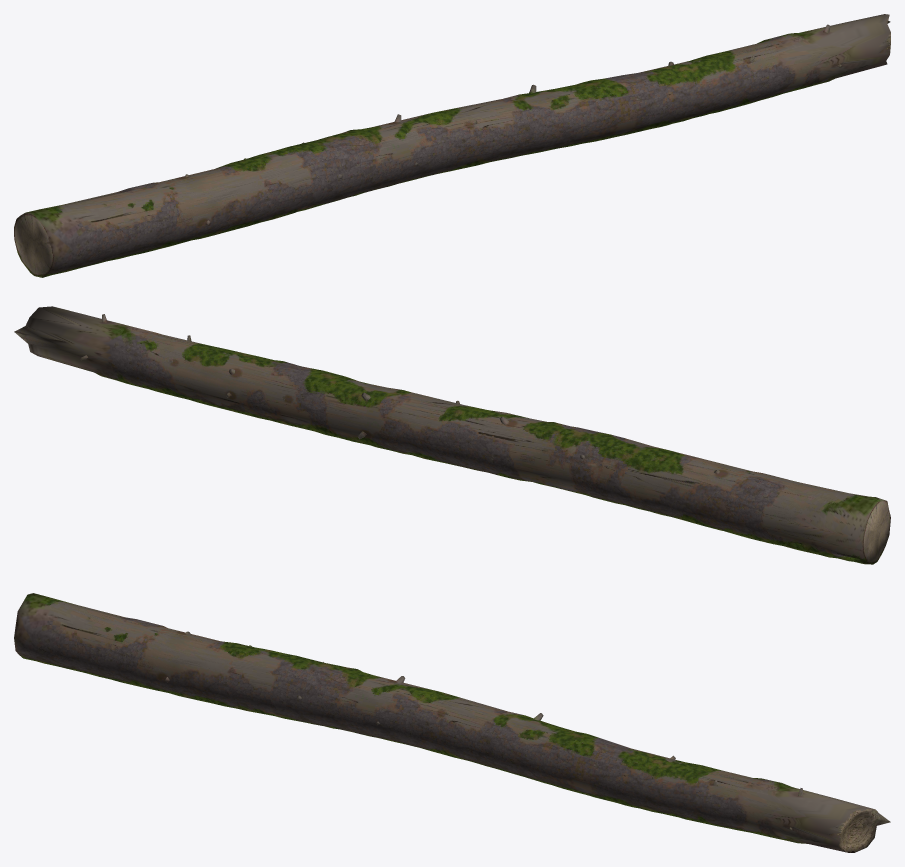
The model's file is FallenLog.glb.
3 renders of one model, top to bottom at view 1: azimuth 30°, elevation 25°; view 2: azimuth 150°, elevation 25°; view 3: azimuth 330°, elevation 25°, orthographic. The views are drawn at different scales.
Parts seen in each view (by area): view 1: fallen-log; view 2: fallen-log; view 3: fallen-log.
Boxes of the visible parts, x1,y1,x2,y2 form: fallen-log: (14, 14, 890, 277); fallen-log: (14, 306, 890, 564); fallen-log: (14, 593, 890, 852).
Bounding box in the file's own units: 6.22 × 0.4456 × 0.4805.
1 material, 1 textured.
